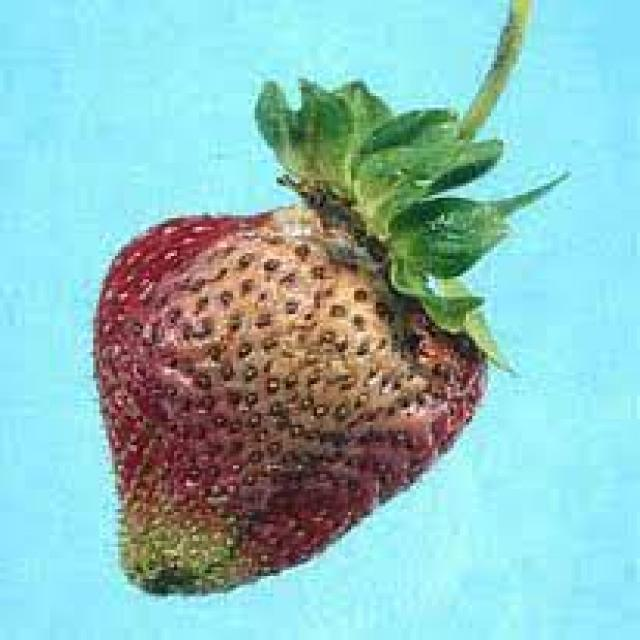Podredumbre de cuero: (64, 120, 508, 618)
